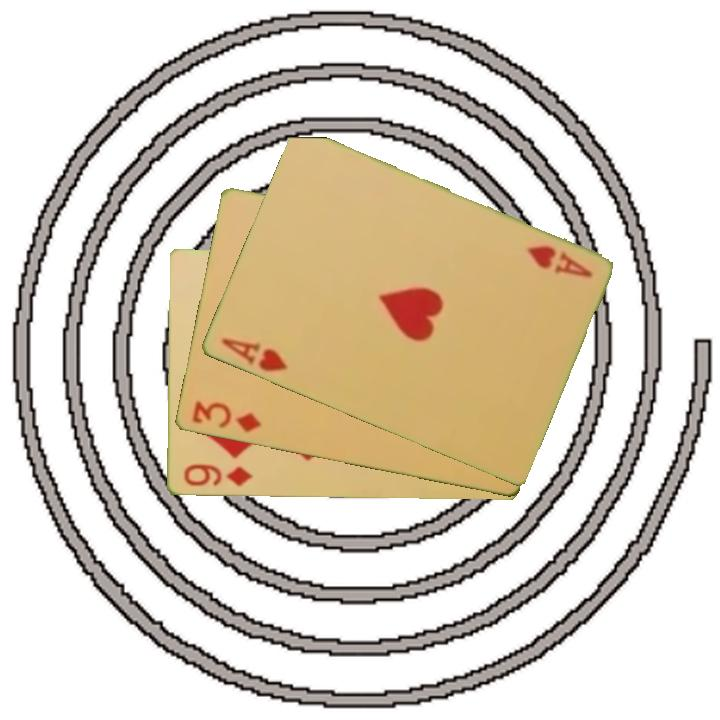3d: (188, 397, 264, 436)
9d: (180, 461, 255, 490)
Ah: (217, 334, 290, 376), (522, 242, 594, 281)
